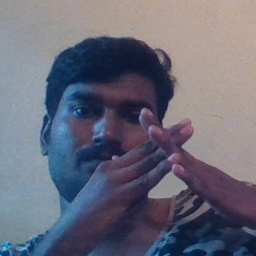W: (111, 96, 230, 229)
